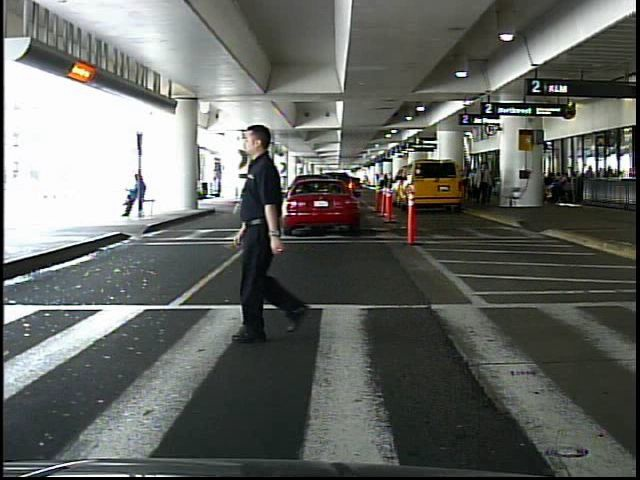person: (212, 122, 337, 344), (475, 162, 493, 208)
